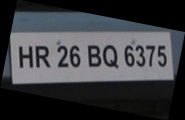character: (102, 44, 118, 68), (18, 45, 33, 69), (35, 45, 50, 68), (87, 44, 101, 67), (56, 45, 69, 68), (69, 44, 80, 67), (123, 44, 134, 67), (145, 44, 155, 68), (135, 44, 145, 67), (157, 44, 167, 67)
